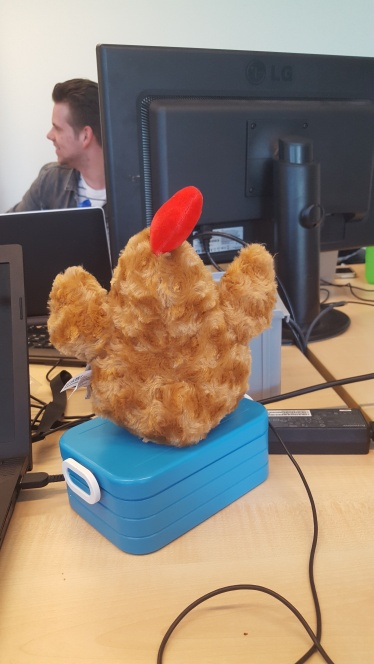chicken_back: (48, 184, 281, 444)
